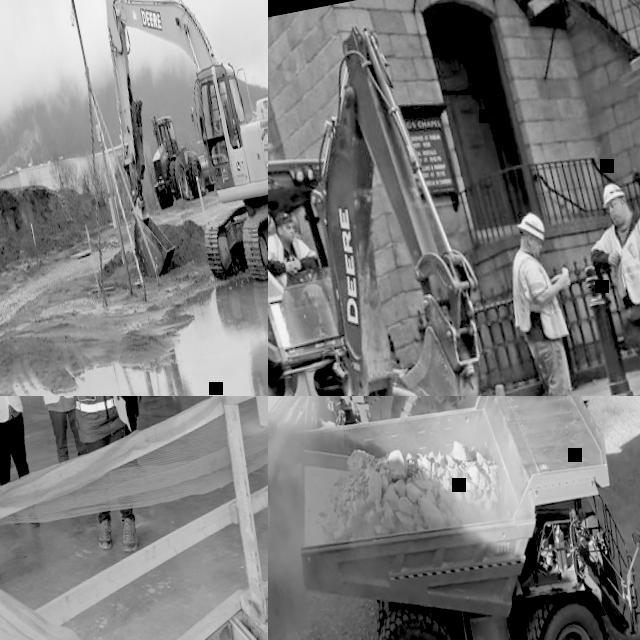helmet: (516, 212, 546, 244), (600, 182, 626, 206)
vest: (503, 244, 570, 344), (605, 217, 640, 307), (268, 230, 312, 289), (53, 396, 119, 427)
